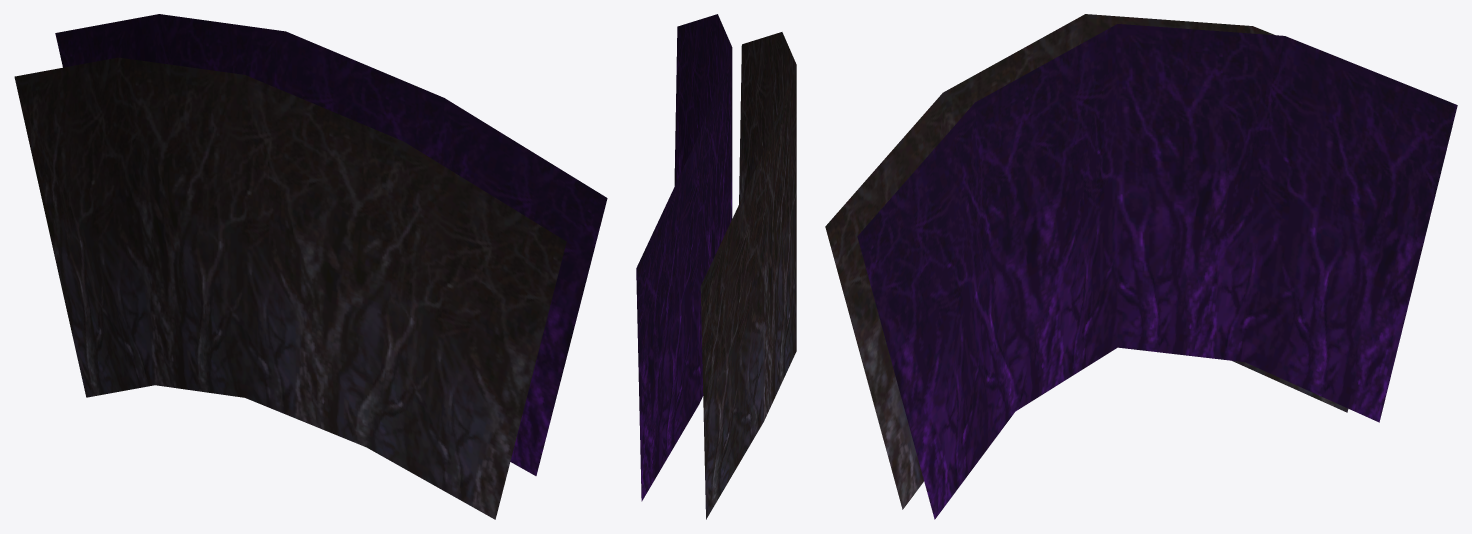
The model's file is EKH_ENTRANCE_PS_EN_TREE_LINE09398374.fbx.
3 views of the same model, side by side, from view 1: azimuth 30°, elevation 25°; view 2: azimuth 150°, elevation 25°; view 3: azimuth 270°, elevation 25° (orthographic). The views are drawn at different scales.
Visible parts, largest first — view 1: EKH_ENTRANCE_PS_EN_TREE_LINE09398374; view 2: EKH_ENTRANCE_PS_EN_TREE_LINE09398374; view 3: EKH_ENTRANCE_PS_EN_TREE_LINE09398374.
Boxes of the visible parts, x1,y1,x2,y2 form: EKH_ENTRANCE_PS_EN_TREE_LINE09398374: (14,14,607,519); EKH_ENTRANCE_PS_EN_TREE_LINE09398374: (636,14,796,519); EKH_ENTRANCE_PS_EN_TREE_LINE09398374: (825,14,1457,519).
Bounding box in the file's own units: 145310 × 195015 × 256264.
Materials: 2 (2 with a texture image).
